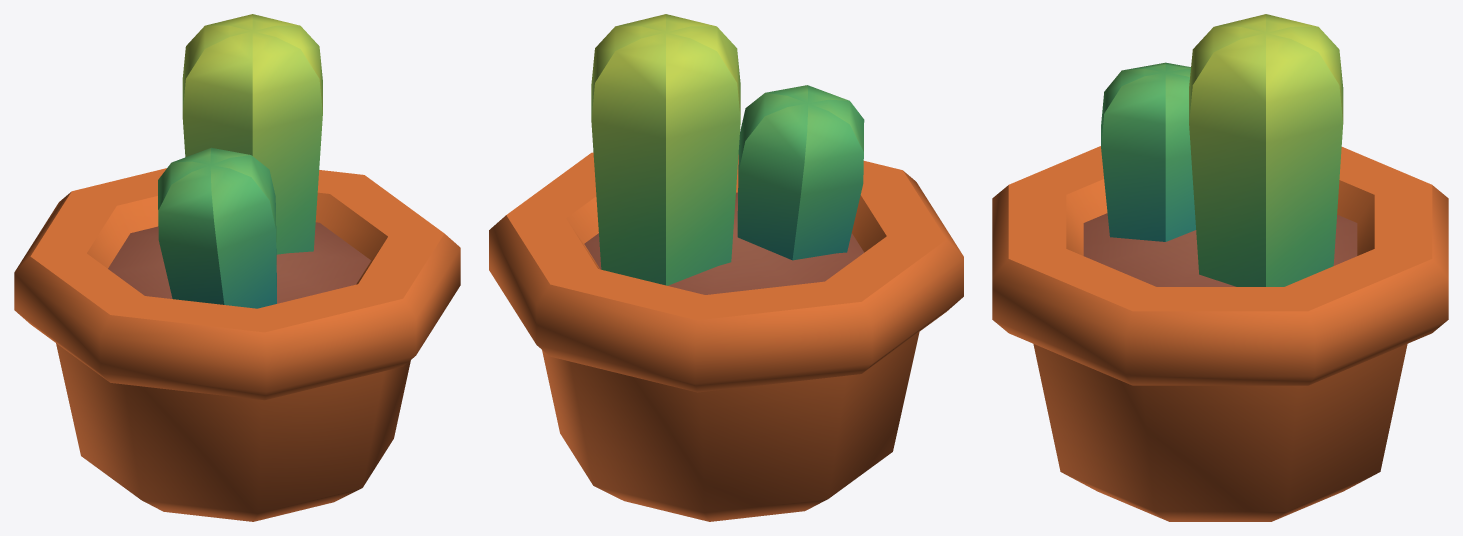
3 renders of one model, left to right at view 1: azimuth 30°, elevation 25°; view 2: azimuth 150°, elevation 25°; view 3: azimuth 270°, elevation 25°, orthographic. The views are drawn at different scales.
Visible parts, largest first — view 1: cactus_small_B; view 2: cactus_small_B; view 3: cactus_small_B.
Boxes of the visible parts, x1=… form: cactus_small_B: x1=14, y1=14, x2=460, y2=521; cactus_small_B: x1=489, y1=14, x2=963, y2=521; cactus_small_B: x1=992, y1=14, x2=1448, y2=521.
Bounding box in the file's own units: 0.5 × 0.5516 × 0.5.
1 material, 1 textured.
